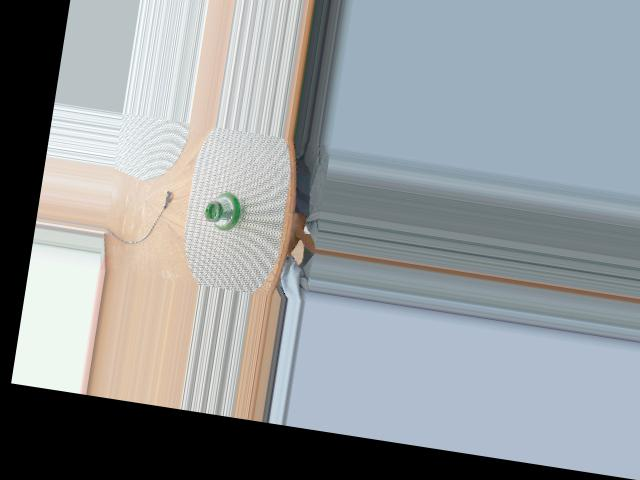beer: (203, 190, 247, 231)
